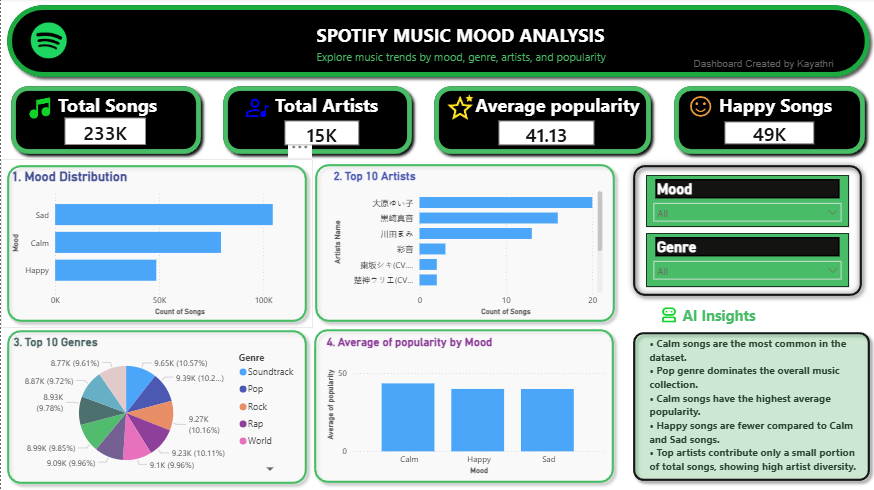

The page's visual inventory and layout, read from the dashboard file:
{"tool":"powerbi","page":{"name":"Page 1","canvas":[1280,720],"ordinal":0},"visuals":[{"type":"clusteredBarChart","title":"1. Mood Distribution","fields":{"Category":["MoodMusicData.Mood"],"Y":["CountNonNull(MoodMusicData.Mood)"]},"box":[10.2,250.2,453.7,219.5],"z":0},{"type":"pieChart","title":"3. Top 10 Genres","fields":{"Category":["MoodMusicData.genre"],"Y":["CountNonNull(MoodMusicData.genre)"]},"box":[13.2,493.2,428.8,209.3],"z":1000},{"type":"clusteredBarChart","title":"2. Top 10 Artists","fields":{"Category":["MoodMusicData.artist_name"],"Y":["CountNonNull(MoodMusicData.artist_name)"]},"box":[481.5,250.2,403.9,219.5],"z":2000},{"type":"columnChart","title":"4. Average of popularity by Mood","fields":{"Category":["MoodMusicData.Mood"],"Y":["Avg(MoodMusicData.popularity)"]},"box":[471.2,493.2,417.1,209.3],"z":3000},{"type":"shape","box":[0,1.5,1280,122.9],"z":4000},{"type":"image","box":[27.8,35.1,83.4,54.1],"z":5000},{"type":"shape","box":[976.1,120,297.1,117.1],"z":6000},{"type":"shape","box":[624.9,120,335.1,117.1],"z":7000},{"type":"shape","box":[316.1,120,294.1,117.1],"z":8000},{"type":"shape","box":[5.9,120,295.6,117.1],"z":9000},{"type":"textbox","box":[70.2,133.2,171.2,51.2],"z":10000},{"type":"textbox","box":[390.7,133.2,171.2,51.2],"z":11000},{"type":"textbox","box":[684.9,133.2,259,52.7],"z":12000},{"type":"textbox","box":[1033.2,133.2,200.5,51.2],"z":13000},{"type":"image","box":[38,140.5,41,41],"z":14000},{"type":"image","box":[354.1,136.1,41,48.3],"z":15000},{"type":"image","box":[645.4,139,52.7,45.4],"z":16000},{"type":"image","box":[1005.4,134.6,36.6,48.3],"z":17000},{"type":"shape","box":[0,235.6,456.6,247.3],"z":18000},{"type":"textbox","box":[456.6,30.7,431.7,60],"z":19000},{"type":"textbox","box":[456.6,70.2,459.5,38],"z":20000},{"type":"shape","box":[450.7,234.1,456.6,248.8],"z":21000},{"type":"shape","box":[0,477.1,456.6,242.9],"z":22000},{"type":"shape","box":[449.3,475.6,456.6,242.9],"z":23000},{"type":"slicer","fields":{"Values":["MoodMusicData.Mood"]},"box":[943.9,259,297.1,76.1],"z":24000},{"type":"slicer","fields":{"Values":["MoodMusicData.genre"]},"box":[943.9,343.9,297.1,79],"z":25000},{"type":"shape","box":[916.1,235.6,352.7,209.3],"z":26000},{"type":"textbox","box":[943.9,444.9,324.9,257.6],"z":27000},{"type":"image","box":[895.6,449.3,163.9,29.3],"z":28000},{"type":"shape","box":[915.6,480,364.4,235.6],"z":29000},{"type":"textbox","box":[1008.3,82,235.6,36.6],"z":30000},{"type":"cardVisual","fields":{"Data":["All measurs.Total Songs"]},"box":[76.1,158,153.7,74.6],"z":31000},{"type":"cardVisual","fields":{"Data":["All measurs.Total Artists"]},"box":[398,162.4,143.4,70.2],"z":32000},{"type":"cardVisual","fields":{"Data":["All measurs.Average Popularity"]},"box":[711.2,162.4,174.1,70.2],"z":33000},{"type":"cardVisual","fields":{"Data":["All measurs.Happy Songs"]},"box":[1042,163.9,165.4,67.3],"z":34000}]}

Visuals, with their boxes in screenshot pixels (x1, y1, x2, y2), scaled from the page's 1280x720 canvas onto the 874x490 screenshot:
"1. Mood Distribution" clusteredBarChart: pyautogui.locateOnScreen(7, 170, 317, 320)
"3. Top 10 Genres" pieChart: pyautogui.locateOnScreen(9, 336, 302, 478)
"2. Top 10 Artists" clusteredBarChart: pyautogui.locateOnScreen(329, 170, 605, 320)
"4. Average of popularity by Mood" columnChart: pyautogui.locateOnScreen(322, 336, 607, 478)
shape: pyautogui.locateOnScreen(0, 1, 873, 85)
image: pyautogui.locateOnScreen(19, 24, 76, 61)
shape: pyautogui.locateOnScreen(666, 82, 869, 161)
shape: pyautogui.locateOnScreen(427, 82, 656, 161)
shape: pyautogui.locateOnScreen(216, 82, 417, 161)
shape: pyautogui.locateOnScreen(4, 82, 206, 161)
textbox: pyautogui.locateOnScreen(48, 91, 165, 125)
textbox: pyautogui.locateOnScreen(267, 91, 384, 125)
textbox: pyautogui.locateOnScreen(468, 91, 645, 127)
textbox: pyautogui.locateOnScreen(705, 91, 842, 125)
image: pyautogui.locateOnScreen(26, 96, 54, 124)
image: pyautogui.locateOnScreen(242, 93, 270, 125)
image: pyautogui.locateOnScreen(441, 95, 477, 125)
image: pyautogui.locateOnScreen(686, 92, 711, 124)
shape: pyautogui.locateOnScreen(0, 160, 312, 329)
textbox: pyautogui.locateOnScreen(312, 21, 607, 62)
textbox: pyautogui.locateOnScreen(312, 48, 626, 74)
shape: pyautogui.locateOnScreen(308, 159, 620, 329)
shape: pyautogui.locateOnScreen(0, 325, 312, 489)
shape: pyautogui.locateOnScreen(307, 324, 619, 489)
slicer - MoodMusicData.Mood: pyautogui.locateOnScreen(645, 176, 847, 228)
slicer - MoodMusicData.genre: pyautogui.locateOnScreen(645, 234, 847, 288)
shape: pyautogui.locateOnScreen(626, 160, 866, 303)
textbox: pyautogui.locateOnScreen(645, 303, 866, 478)
image: pyautogui.locateOnScreen(612, 306, 723, 326)
shape: pyautogui.locateOnScreen(625, 327, 873, 487)
textbox: pyautogui.locateOnScreen(688, 56, 849, 81)
cardVisual - All measurs.Total Songs: pyautogui.locateOnScreen(52, 108, 157, 158)
cardVisual - All measurs.Total Artists: pyautogui.locateOnScreen(272, 111, 370, 158)
cardVisual - All measurs.Average Popularity: pyautogui.locateOnScreen(486, 111, 604, 158)
cardVisual - All measurs.Happy Songs: pyautogui.locateOnScreen(711, 112, 824, 157)
